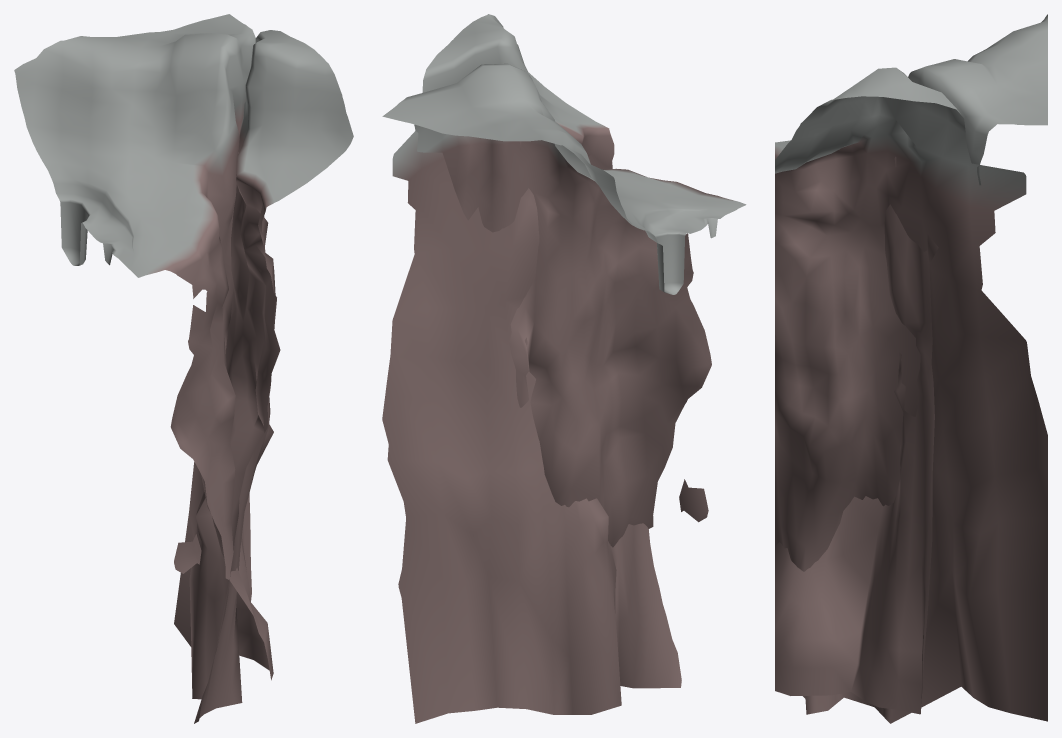
3 views of the same model, side by side, from view 1: azimuth 30°, elevation 25°; view 2: azimuth 150°, elevation 25°; view 3: azimuth 270°, elevation 25° (orthographic). The views are drawn at different scales.
Visible parts, largest first — view 1: G:\FFXIV-MapTools\exports\u5f1\bg\ex4\04_uvs_u5\fld\u5f1\bgp (×15); view 2: G:\FFXIV-MapTools\exports\u5f1\bg\ex4\04_uvs_u5\fld\u5f1\bgp (×13); view 3: G:\FFXIV-MapTools\exports\u5f1\bg\ex4\04_uvs_u5\fld\u5f1\bgp (×8).
Boxes of the visible parts, x1,y1,x2,y2 form: G:\FFXIV-MapTools\exports\u5f1\bg\ex4\04_uvs_u5\fld\u5f1\bgp (×15): (14, 14, 353, 723); G:\FFXIV-MapTools\exports\u5f1\bg\ex4\04_uvs_u5\fld\u5f1\bgp (×13): (382, 14, 746, 723); G:\FFXIV-MapTools\exports\u5f1\bg\ex4\04_uvs_u5\fld\u5f1\bgp (×8): (775, 14, 1047, 723).
Bounding box in the file's own units: 128 × 354 × 128.
